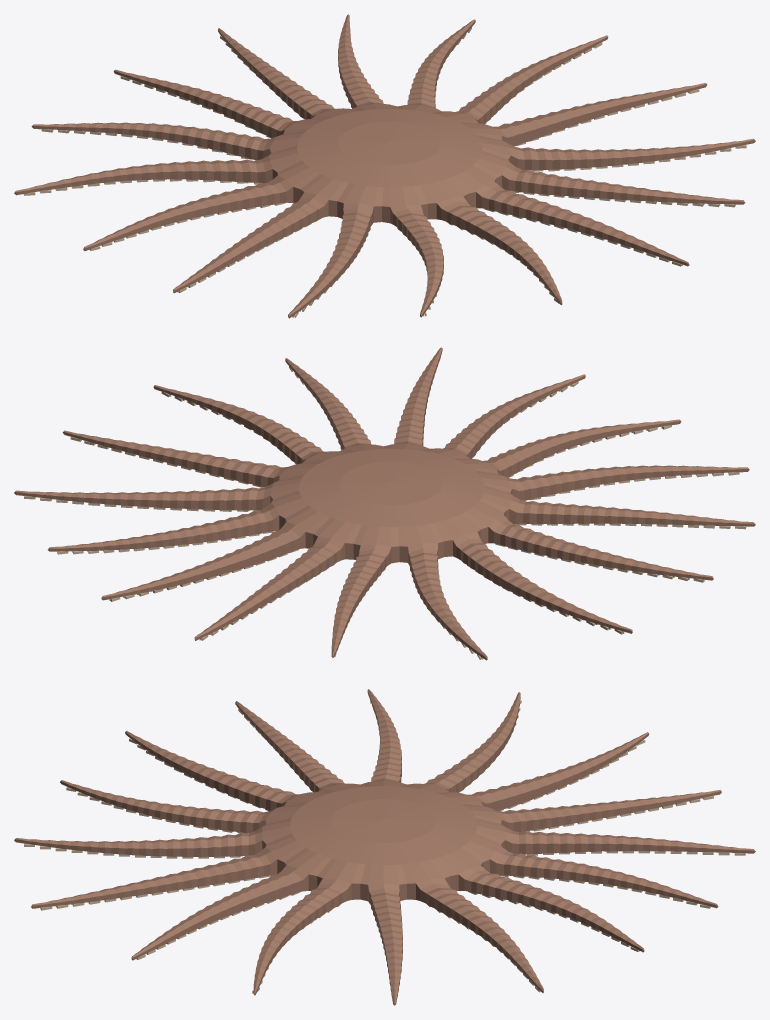
3 views of the same model, one above another, from view 1: azimuth 30°, elevation 25°; view 2: azimuth 150°, elevation 25°; view 3: azimuth 270°, elevation 25° (orthographic).
Visible parts, largest first — view 1: continuous-disc-and-sixteen-articulated-arms, paired-oral-ambulacral-bands; view 2: continuous-disc-and-sixteen-articulated-arms, paired-oral-ambulacral-bands; view 3: continuous-disc-and-sixteen-articulated-arms, paired-oral-ambulacral-bands.
Part boxes in pixels (x1,y1,x2,y2): continuous-disc-and-sixteen-articulated-arms: [14, 14, 755, 318]; paired-oral-ambulacral-bands: [23, 27, 746, 317]; continuous-disc-and-sixteen-articulated-arms: [14, 347, 755, 660]; paired-oral-ambulacral-bands: [24, 356, 746, 659]; continuous-disc-and-sixteen-articulated-arms: [14, 689, 755, 1005]; paired-oral-ambulacral-bands: [24, 700, 745, 1003].
Size of the model in its own units: 0.2 by 0.0103 by 0.1997.
